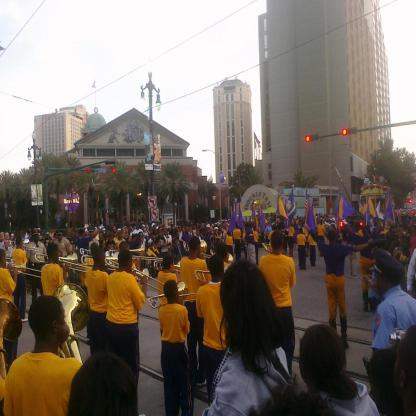face: (57, 308, 71, 343), (374, 270, 384, 295), (174, 285, 180, 300), (102, 256, 107, 271), (129, 257, 134, 271), (55, 249, 60, 260), (3, 254, 7, 266), (373, 219, 379, 227), (385, 223, 390, 231), (172, 260, 175, 273), (58, 235, 63, 242), (34, 235, 39, 242), (39, 237, 44, 244), (21, 240, 24, 248), (6, 241, 9, 248), (6, 232, 9, 239), (72, 232, 75, 238), (137, 223, 140, 229), (160, 231, 163, 237), (119, 232, 122, 238), (332, 225, 335, 231), (1, 234, 4, 240), (91, 232, 94, 237), (101, 234, 104, 239), (110, 237, 113, 242), (123, 233, 126, 238), (187, 227, 190, 232), (197, 231, 200, 236), (154, 238, 157, 243), (154, 226, 157, 230), (183, 228, 186, 232), (163, 231, 165, 236), (166, 231, 168, 236), (114, 227, 116, 231), (191, 228, 193, 232), (217, 229, 219, 232)
